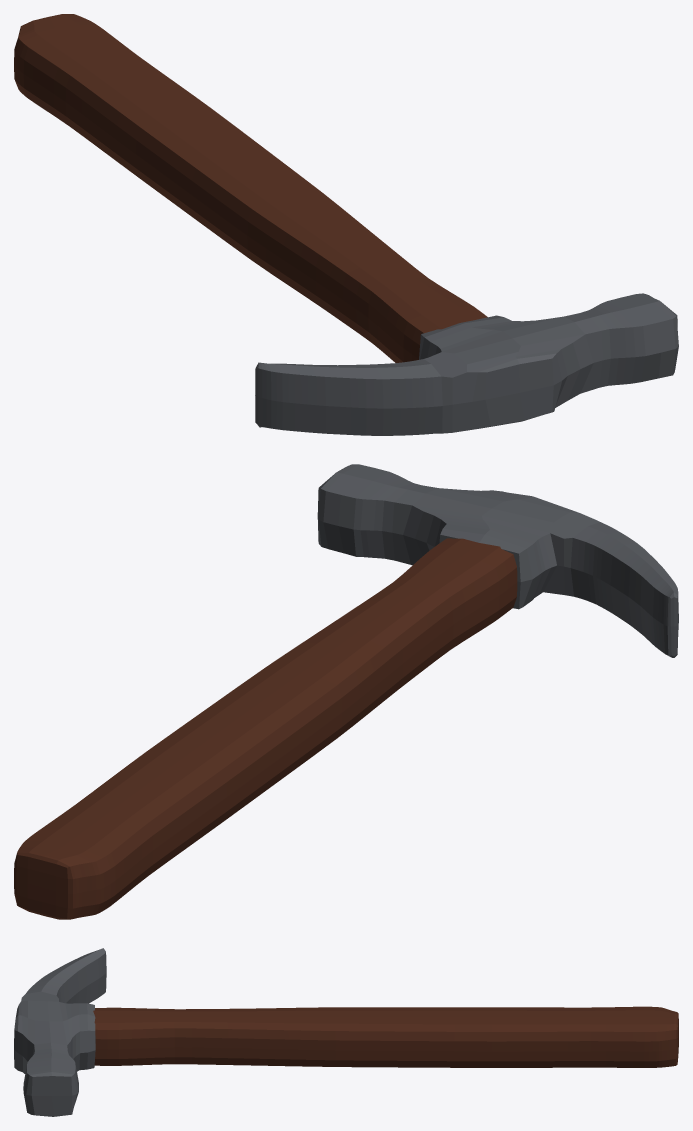
File: hammer_scale1.fbx
3 renders of one model, top to bottom at view 1: azimuth 30°, elevation 25°; view 2: azimuth 150°, elevation 25°; view 3: azimuth 270°, elevation 25°, orthographic. The views are drawn at different scales.
Visible parts, largest first — view 1: Plane, kopf; view 2: Plane, kopf; view 3: Plane, kopf.
Part boxes in pixels (x1=…): Plane: x1=14, y1=14, x2=487, y2=362; kopf: x1=255, y1=293, x2=678, y2=435; Plane: x1=14, y1=538, x2=517, y2=919; kopf: x1=317, y1=464, x2=678, y2=657; Plane: x1=93, y1=1006, x2=678, y2=1067; kopf: x1=14, y1=948, x2=106, y2=1116.
Bounding box in the file's own units: 396 × 65.87 × 880.
